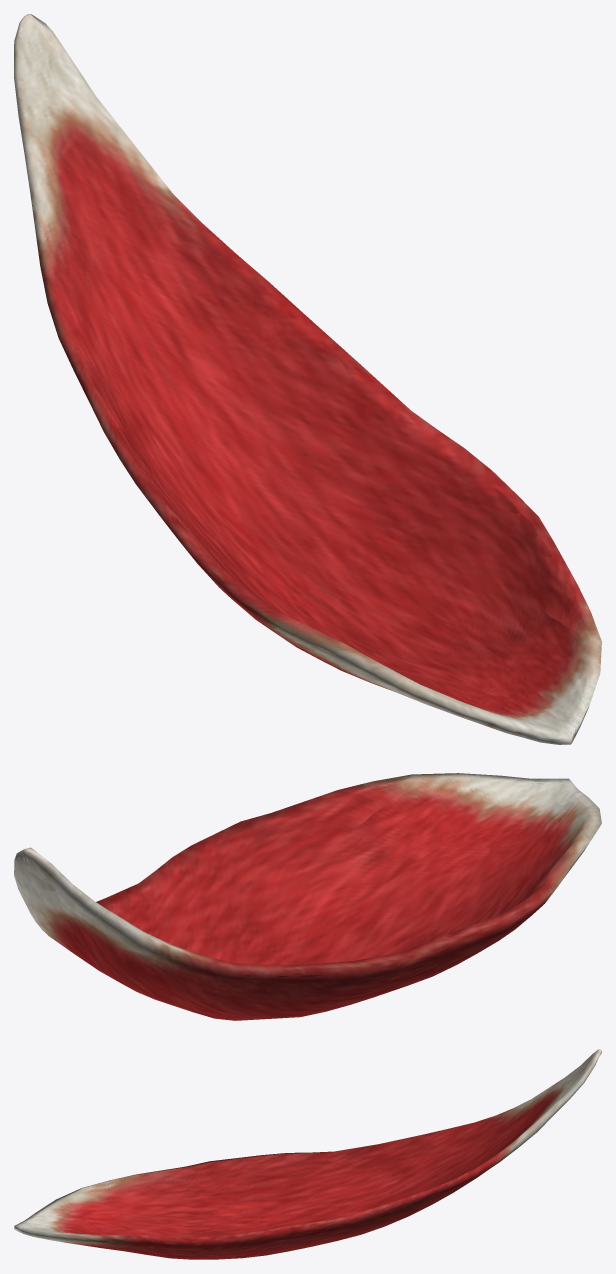
File: Rectus Abdominis.fbx
3 views of the same model, one above another, from view 1: azimuth 30°, elevation 25°; view 2: azimuth 150°, elevation 25°; view 3: azimuth 270°, elevation 25° (orthographic). The views are drawn at different scales.
Parts seen in each view (by area): view 1: Rectus Abdominis high, Rectus Abdominis low, Rectus Abdominis; view 2: Rectus Abdominis high, Rectus Abdominis low, Rectus Abdominis; view 3: Rectus Abdominis high, Rectus Abdominis low, Rectus Abdominis.
Part boxes in pixels (box(x1,y1,x2,y2)): Rectus Abdominis high: box(16, 17, 593, 740); Rectus Abdominis low: box(14, 14, 598, 744); Rectus Abdominis: box(14, 14, 601, 744); Rectus Abdominis high: box(17, 778, 596, 1018); Rectus Abdominis low: box(14, 775, 600, 1018); Rectus Abdominis: box(14, 773, 601, 1020); Rectus Abdominis high: box(19, 1049, 601, 1258); Rectus Abdominis low: box(14, 1050, 600, 1258); Rectus Abdominis: box(14, 1049, 601, 1259).
Size of the model in its own units: 6.52 by 7.65 by 20.24.
1 material, 1 textured.
